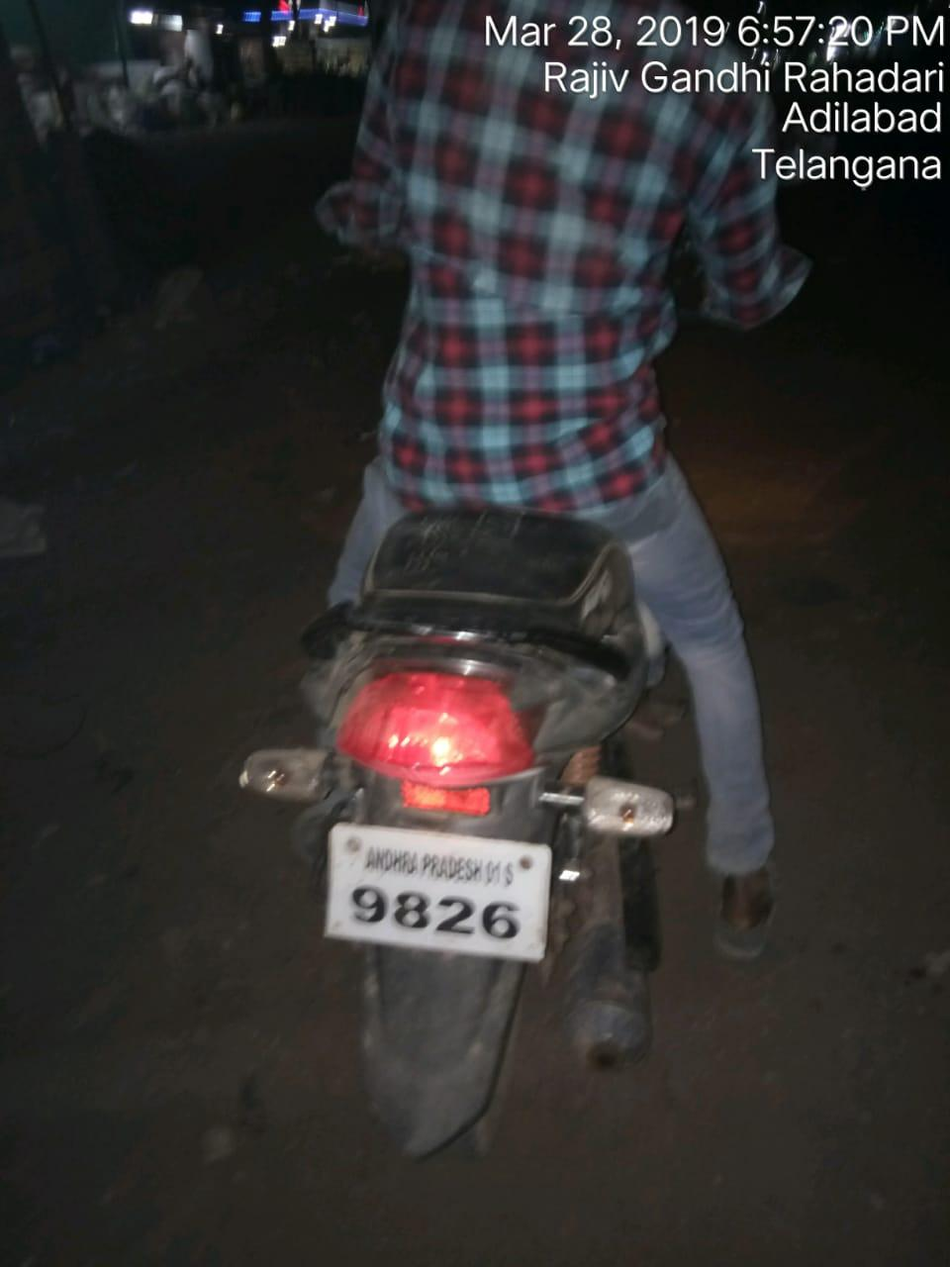plate: (306, 811, 588, 988)
